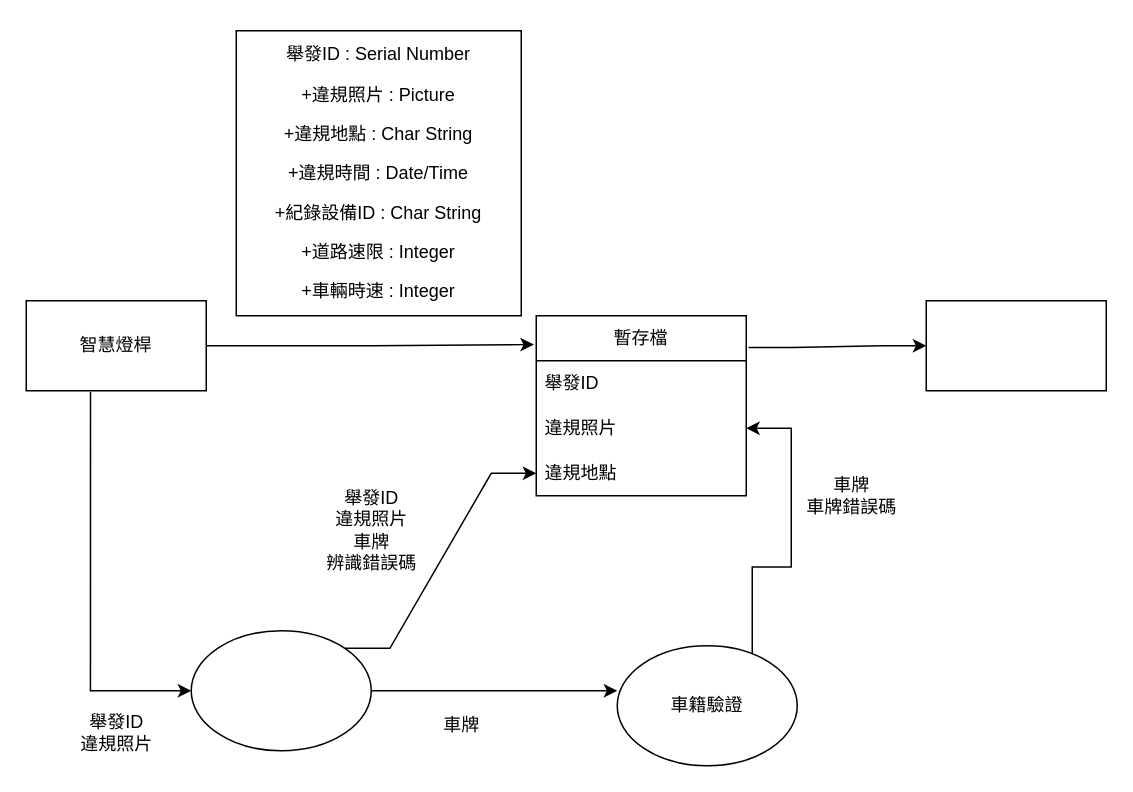
This 1133x792 diagram has some shape labels left out. Each missing label, with the centre of its shape:
車牌辨識: the point at 280,690
違規辨識: the point at 1015,345
